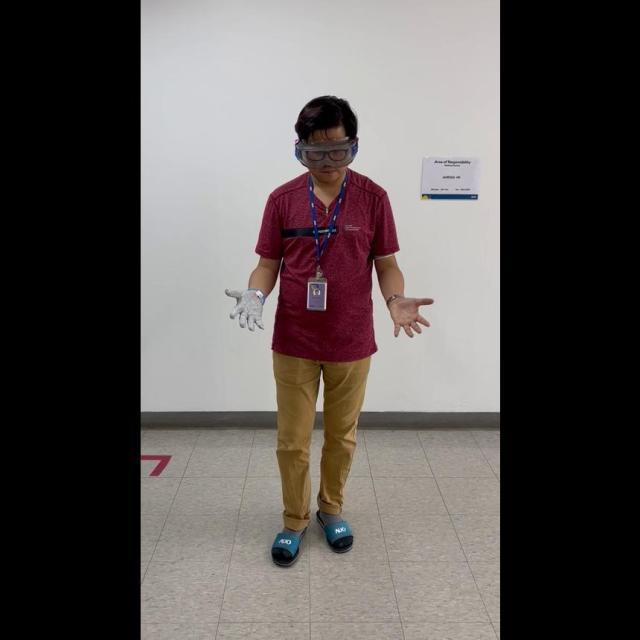bare_hand: (384, 291, 433, 338)
gloved_hand: (224, 281, 268, 333)
